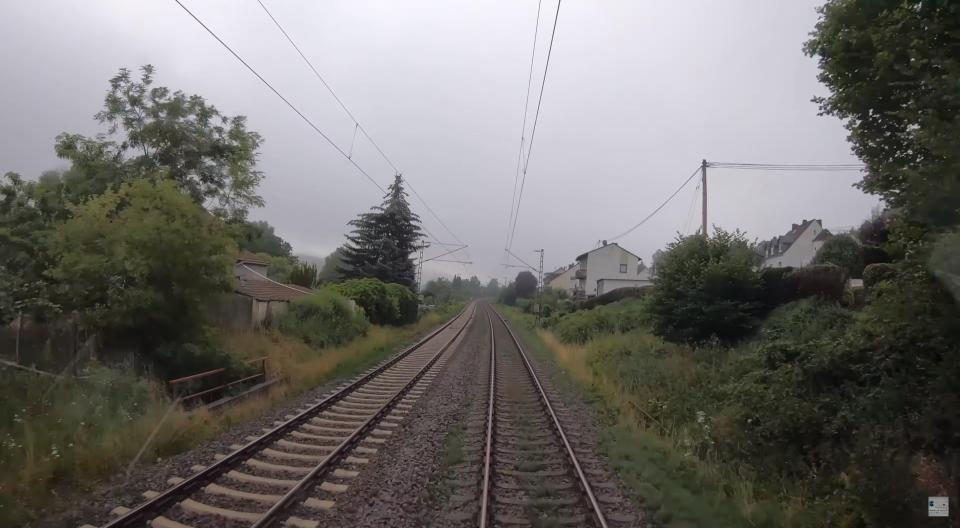Plant: (499, 307, 752, 528), (515, 475, 564, 528), (511, 390, 541, 473), (440, 423, 466, 468)
